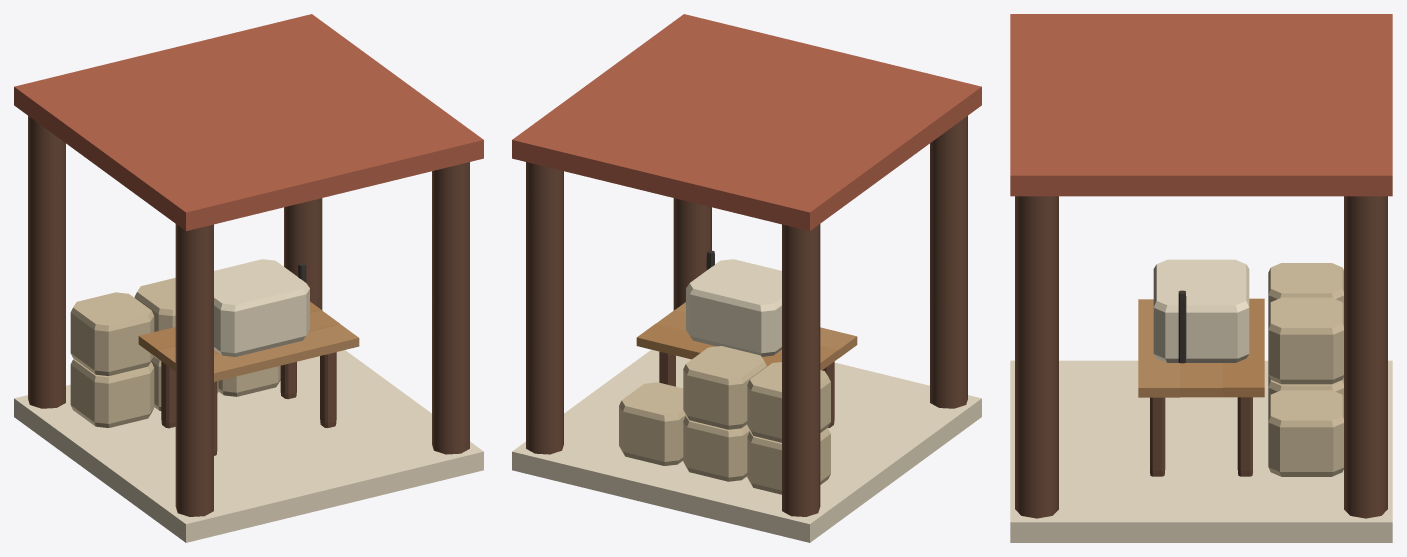
File: masonry.glb
3 renders of one model, left to right at view 1: azimuth 30°, elevation 25°; view 2: azimuth 150°, elevation 25°; view 3: azimuth 270°, elevation 25°, orthographic. The views are drawn at different scales.
Visible parts, largest first — view 1: Floor, Cap2, Cap4, Cap, Cap3, Post2, Post4, Post, WorkStone, CutStone4, TableTop, CutStone (+6 smaller); view 2: Floor, Cap, Cap3, Cap2, Cap4, Post, Post3, Post2, WorkStone, CutStone5, CutStone3, CutStone2 (+4 smaller); view 3: Floor, Cap3, Cap4, Cap, Cap2, Post3, Post4, WorkStone, TableTop, CutStone5, CutStone3, CutStone4 (+4 smaller).
Part boxes in pixels (x1,y1,x2,y2): Floor: (14, 350, 483, 542); Cap2: (100, 113, 334, 230); Cap4: (249, 77, 483, 194); Cap: (14, 50, 248, 167); Cap3: (163, 14, 397, 112); Post2: (175, 224, 213, 516); Post4: (432, 162, 469, 454); Post: (28, 116, 65, 408); WorkStone: (214, 259, 309, 356); CutStone4: (70, 292, 154, 375); TableTop: (138, 301, 359, 381); CutStone: (70, 358, 154, 427); Floor: (512, 349, 981, 542); Cap: (661, 113, 895, 230); Cap3: (512, 77, 746, 194); Cap2: (747, 50, 981, 167); Cap4: (598, 14, 832, 112); Post: (782, 224, 820, 516); Post3: (526, 162, 563, 454); Post2: (930, 116, 967, 408); WorkStone: (686, 259, 781, 356); CutStone5: (683, 346, 766, 429); CutStone3: (619, 382, 685, 465); CutStone2: (683, 416, 749, 481); Floor: (1010, 360, 1392, 542); Cap3: (1201, 94, 1392, 196); Cap4: (1010, 94, 1201, 196); Cap: (1201, 14, 1392, 94); Cap2: (1010, 14, 1201, 94); Post3: (1344, 196, 1387, 518); Post4: (1015, 196, 1058, 518); WorkStone: (1153, 259, 1249, 362); TableTop: (1138, 298, 1264, 397); CutStone5: (1268, 297, 1343, 384); CutStone3: (1268, 390, 1343, 476); CutStone4: (1268, 263, 1343, 306).
Bounding box in the file's own units: 2 × 2.12 × 2.
